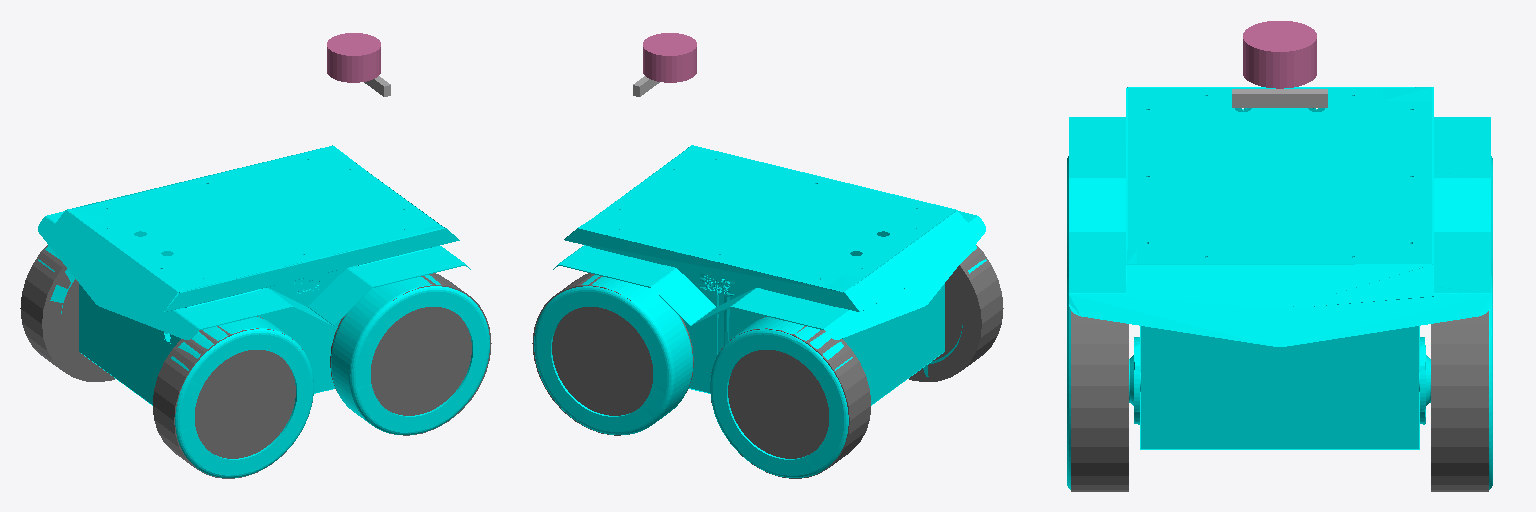
robot.urdf — sam_bot:
<?xml version="1.0" encoding="UTF-8"?>

<robot name="sam_bot">

  <!-- Robot Base -->
  <link name="base_link">
    <visual>
      <origin
        xyz="-0.30 -0.29 -0.2"
        rpy="0 0 0" />
      <geometry>
        <!-- <box size="${base_length} ${0.31} ${base_height}"/> -->
        <mesh filename="package://amr_description/meshes/DGT-001M.STL"/>
      </geometry>
      <material name="Cyan">
        <color rgba="0 1.0 1.0 1.0"/>
      </material>
    </visual>
    <collision>
      <origin
        xyz="-0.30 -0.29 -0.2"
        rpy="0 0 0" />
      <geometry>
        <mesh filename="package://amr_description/meshes/DGT-001M.STL"/>
      </geometry>
    </collision>
    <inertial>
         <origin
        xyz="-0.30 -0.29 -0.2"
        rpy="0 0 0" />
         <mass value="45.88" />
         <inertia ixx="1.182744" ixy="0.017957" ixz="-0.077476" iyx="0.017957" iyy="0.538664" iyz="0.000018" izx="-0.077476" izy="0.000018" izz="1.240229"/>
    </inertial>

    <!-- <xacro:box_inertia m="15" w="${0.31}" d="${base_length}" h="${base_height}"/> -->
  </link>
  <!-- Robot Footprint -->
  <link name="base_footprint"/>

  <joint name="base_joint" type="fixed">
    <parent link="base_footprint"/>
    <child link="base_link"/>
    <origin xyz="0.0 0.0 0.2" rpy="0 0 0"/>
  </joint>

  <!-- Wheels -->
    <link name="wheel_l_b_link">
      <visual>
        <origin xyz="0 0 0" rpy="1.57057 0 0"/>
        <geometry>
            <cylinder radius="0.15" length="0.08"/>
        </geometry>
        <material name="Gray">
          <color rgba="0.5 0.5 0.5 1.0"/>
        </material>
      </visual>
      <collision>
        <origin xyz="0 0 0" rpy="1.57057 0 0"/>
        <geometry>
          <cylinder radius="0.15" length="0.08"/>
        </geometry>
      </collision>
      <inertial>
         <origin rpy="0 0 0" xyz="0 0.05 0" />
         <mass value="4.195729" />
         <inertia ixx="0.063680" ixy="0.000000" ixz="0.000000" iyx="0.000000" iyy="0.121410" iyz="0.000000" izx="0.000000" izy="0.000000" izz="0.063680"/>
      </inertial>
    </link>
    <link name="wheel_r_b_link">
      <visual>
        <origin xyz="0 0 0" rpy="1.57057 0 0"/>
        <geometry>
            <cylinder radius="0.15" length="0.08"/>
        </geometry>
        <material name="Gray">
          <color rgba="0.5 0.5 0.5 1.0"/>
        </material>
      </visual>
            <collision>
        <origin xyz="0 0 0" rpy="1.57057 0 0"/>
        <geometry>
          <cylinder radius="0.15" length="0.08"/>
        </geometry>
      </collision>
      <inertial>
         <origin rpy="0 0 0" xyz="0 -0.05 0" />
         <mass value="4.195729" />
         <inertia ixx="0.063680" ixy="0.000000" ixz="0.000000" iyx="0.000000" iyy="0.121410" iyz="0.000000" izx="0.000000" izy="0.000000" izz="0.063680"/>
      </inertial>
    </link>
    <link name="wheel_l_f_link">
      <visual>
        <origin xyz="0 0 0" rpy="1.57057 0 0"/>
        <geometry>
            <cylinder radius="0.15" length="0.08"/>
        </geometry>
        <material name="Gray">
          <color rgba="0.5 0.5 0.5 1.0"/>
        </material>
      </visual>
            <collision>
        <origin xyz="0 0 0" rpy="1.57057 0 0"/>
        <geometry>
          <cylinder radius="0.15" length="0.08"/>
        </geometry>
      </collision>
      <inertial>
         <origin rpy="0 0 0" xyz="0 0.05 0" />
         <mass value="4.195729" />
         <inertia ixx="0.063680" ixy="0.000000" ixz="0.000000" iyx="0.000000" iyy="0.121410" iyz="0.000000" izx="0.000000" izy="0.000000" izz="0.063680"/>
      </inertial>
    </link>
    <link name="wheel_r_f_link">
      <visual>
        <origin xyz="0 0 0" rpy="1.57057 0 0"/>
        <geometry>
            <cylinder radius="0.15" length="0.08"/>
        </geometry>
        <material name="Gray">
          <color rgba="0.5 0.5 0.5 1.0"/>
        </material>
      </visual>
            <collision>
        <origin xyz="0 0 0" rpy="1.57057 0 0"/>
        <geometry>
          <cylinder radius="0.15" length="0.08"/>
        </geometry>
      </collision>
      <inertial>
         <origin rpy="0 0 0" xyz="0 -0.05 0" />
         <mass value="4.195729" />
         <inertia ixx="0.063680" ixy="0.000000" ixz="0.000000" iyx="0.000000" iyy="0.121410" iyz="0.000000" izx="0.000000" izy="0.000000" izz="0.063680"/>
      </inertial>
    </link>
    
    <joint name="wheel_l_b_joint" type="continuous">
      <parent link="base_link"/>
      <child link="wheel_l_b_link"/>
      <origin xyz="-0.15 0.245 -0.05" rpy="0 0 0"/>
      <axis xyz="0 1 0"/>
    </joint>
    <joint name="wheel_l_f_joint" type="continuous">
      <parent link="base_link"/>
      <child link="wheel_l_f_link"/>
      <origin xyz="0.23 0.245 -0.05" rpy="0 0 0"/>
      <axis xyz="0 1 0"/>
    </joint>
    <joint name="wheel_r_b_joint" type="continuous">
      <parent link="base_link"/>
      <child link="wheel_r_b_link"/>
      <origin xyz="-0.15 -0.245 -0.05" rpy="0 0 0"/>
      <axis xyz="0 1 0"/>
    </joint>
    <joint name="wheel_r_f_joint" type="continuous">
      <parent link="base_link"/>
      <child link="wheel_r_f_link"/>
      <origin xyz="0.23 -0.245 -0.05" rpy="0 0 0"/>
      <axis xyz="0 1 0"/>
    </joint>


  <link name="base_scan">
    <inertial>
        <origin xyz="0 0 0" rpy="0 0 0"/>
        <mass value="0.125"/>
        <inertia ixx="0.001"  ixy="0"  ixz="0" iyy="0.001" iyz="0" izz="0.001" />
    </inertial>

    <collision>
        <origin xyz="0 0 0" rpy="0 0 0"/>
        <geometry>
        <cylinder radius="0.0508" length="0.055"/>
        </geometry>
    </collision>

    <visual>
        <origin xyz="0 0 0" rpy="0 0 0"/>
        <geometry>
        <cylinder radius="0.0508" length="0.055"/>
        </geometry>
    </visual>
  </link>

<joint name="scan_joint" type="fixed">
  <parent link="base_link"/>
  <child link="base_scan"/>
  <origin xyz="0.25 0 0.45" rpy="0 0 0"/>
</joint>
<link name="camera_link">
  <visual>
    <origin xyz="0 0 0" rpy="0 0 0"/>
    <geometry>
      <box size="0.015 0.130 0.022"/>
    </geometry>
  </visual>

  <collision>
    <origin xyz="0 0 0" rpy="0 0 0"/>
    <geometry>
      <box size="0.015 0.130 0.022"/>
    </geometry>
  </collision>

  <inertial>
    <origin xyz="0 0 0" rpy="0 0 0"/>
    <mass value="0.035"/>
    <inertia ixx="0.001"  ixy="0"  ixz="0" iyy="0.001" iyz="0" izz="0.001" />
  </inertial>
</link>

<joint name="camera_joint" type="fixed">
  <parent link="base_link"/>
  <child link="camera_link"/>
  <origin xyz="0.285 0 0.40" rpy="0 0 0"/>
</joint>

<link name="gyro_link"/>
<joint name="imu_joint" type="fixed">
  <parent link="base_link"/>
  <child link="gyro_link"/>
  <origin xyz="0.15 0 0.40" rpy="0 0 0"/>
</joint>


</robot>

--- Facts derived from the render (not from the file) ---
3 views of the same robot in one strip: view 1: azimuth 30°, elevation 25°; view 2: azimuth 150°, elevation 25°; view 3: azimuth 270°, elevation 25° (orthographic).
Robot: sam_bot — 9 links, 8 joints (4 continuous, 4 fixed); root link base_footprint; default pose: all joints at 0.
Visible links, largest first — view 1: base_link, wheel_r_b_link, wheel_r_f_link, wheel_l_b_link, base_scan; view 2: base_link, wheel_l_b_link, wheel_l_f_link, wheel_r_b_link, base_scan; view 3: base_link, wheel_l_f_link, wheel_r_f_link, base_scan, camera_link.
Link boxes in pixels (x1,y1,x2,y2): base_link: (38,145,489,477); wheel_r_b_link: (153,316,312,478); wheel_r_f_link: (330,273,491,435); wheel_l_b_link: (20,245,114,381); base_scan: (327,33,380,82); base_link: (534,145,986,477); wheel_l_b_link: (711,316,870,478); wheel_l_f_link: (532,273,693,435); wheel_r_b_link: (909,245,1003,381); base_scan: (643,33,696,82); base_link: (1067,87,1492,489); wheel_l_f_link: (1431,311,1488,491); wheel_r_f_link: (1071,311,1128,491); base_scan: (1243,21,1316,88); camera_link: (1232,89,1327,107).
Size in the robot's own frame: 0.68 by 0.58 by 0.6775 metres.
Meshes: 1 distinct files referenced, 1 mesh visuals loaded (1 binary STL).
